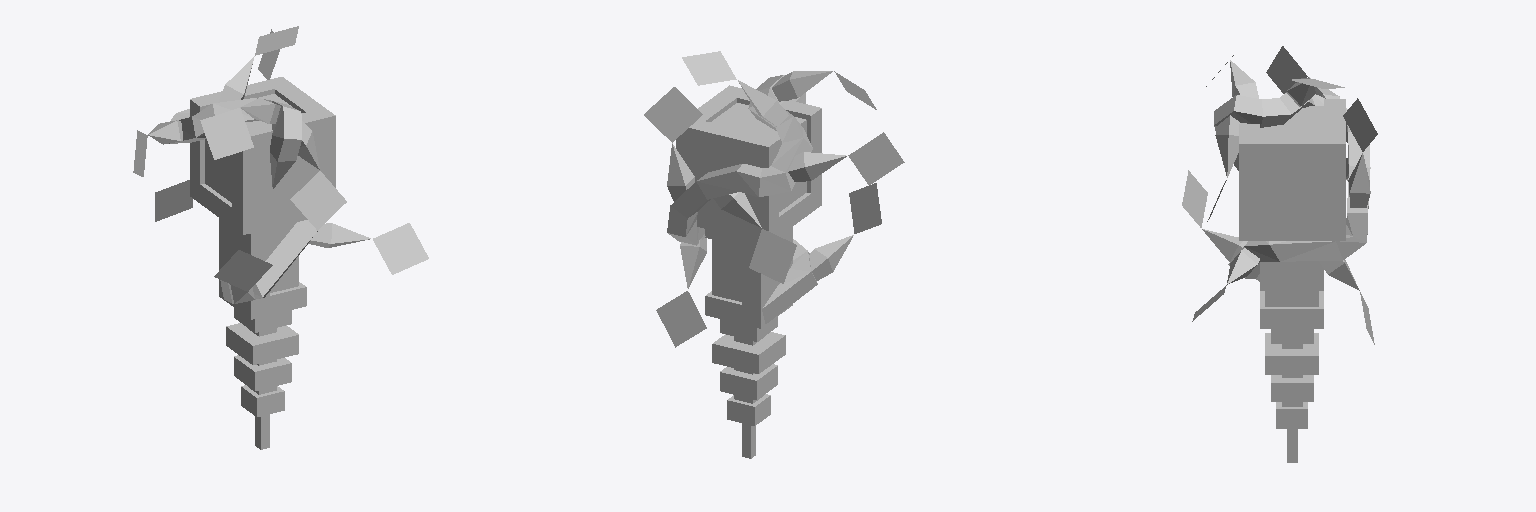
File: arm_blaster_l.obj
3 views of the same model, side by side, from view 1: azimuth 30°, elevation 25°; view 2: azimuth 150°, elevation 25°; view 3: azimuth 270°, elevation 25° (orthographic).
Parts seen in each view (by area): view 1: ARM_LEFT_BLASTER_Cube.028, ARM_LEFT_DECO_WOOD_Cube.014; view 2: ARM_LEFT_DECO_WOOD_Cube.014, ARM_LEFT_BLASTER_Cube.028; view 3: ARM_LEFT_BLASTER_Cube.028, ARM_LEFT_DECO_WOOD_Cube.014.
Part boxes in pixels (x1,y1,x2,y2): ARM_LEFT_BLASTER_Cube.028: (190, 77, 335, 449); ARM_LEFT_DECO_WOOD_Cube.014: (133, 26, 428, 303); ARM_LEFT_DECO_WOOD_Cube.014: (644, 51, 904, 347); ARM_LEFT_BLASTER_Cube.028: (676, 85, 821, 458); ARM_LEFT_BLASTER_Cube.028: (1239, 99, 1345, 462); ARM_LEFT_DECO_WOOD_Cube.014: (1182, 46, 1377, 344).
Bounding box in the file's own units: 0.8743 × 1.28 × 0.5727.